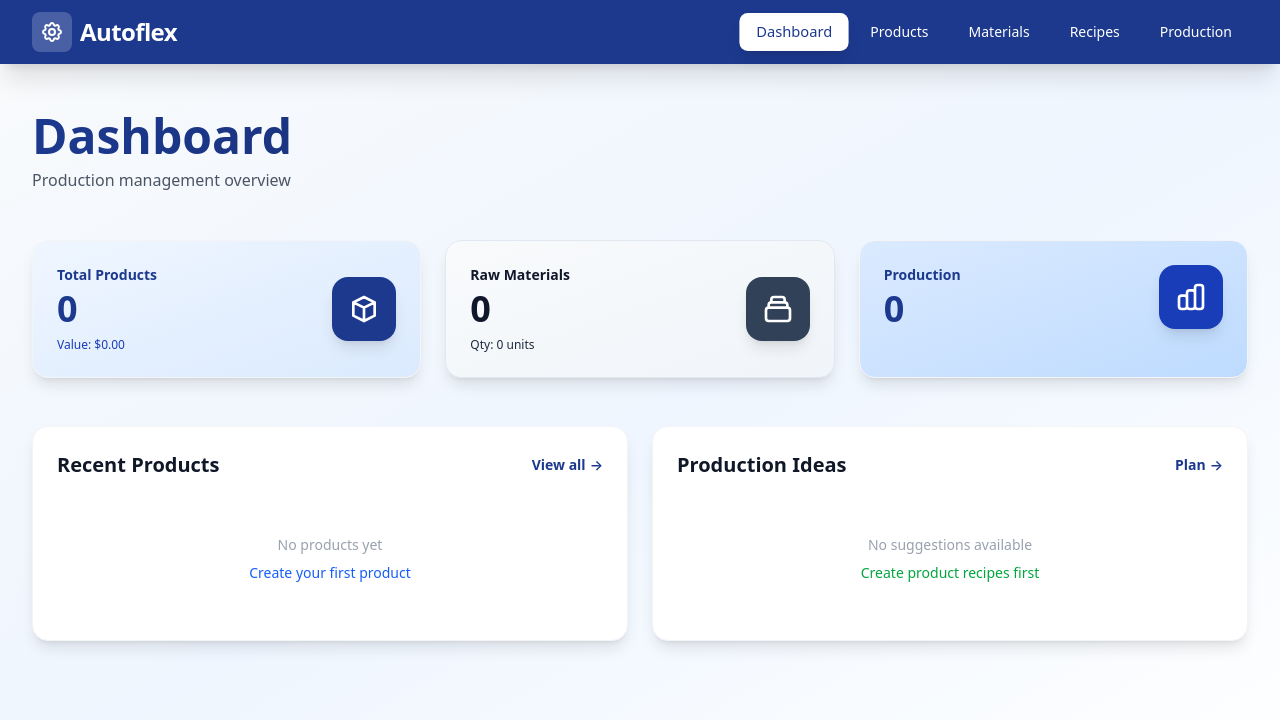
Test: Frontend Vue - Navigation › Navbar Link Navigation › should navigate to Materials page via navbar
Click the link "Materials" at (1000, 32), box [969,22,1030,41]
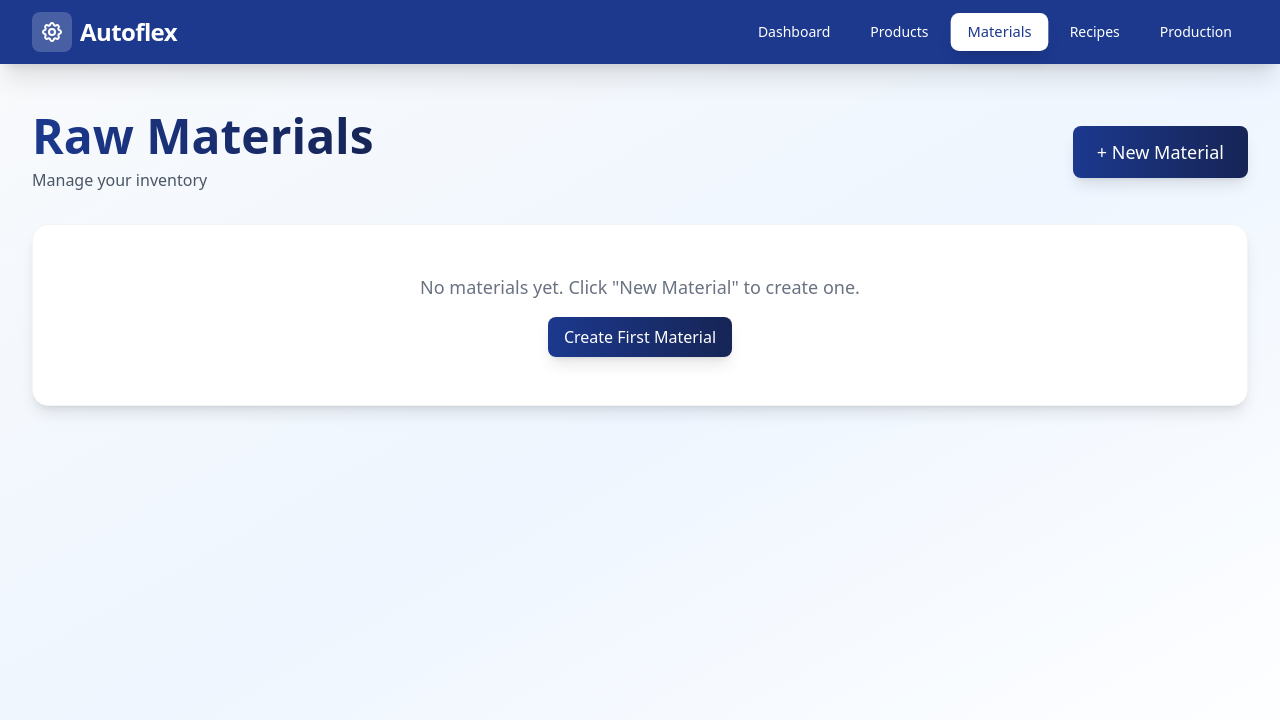
Expected: the heading "Raw Materials" is shown, [32,112,374,160]
